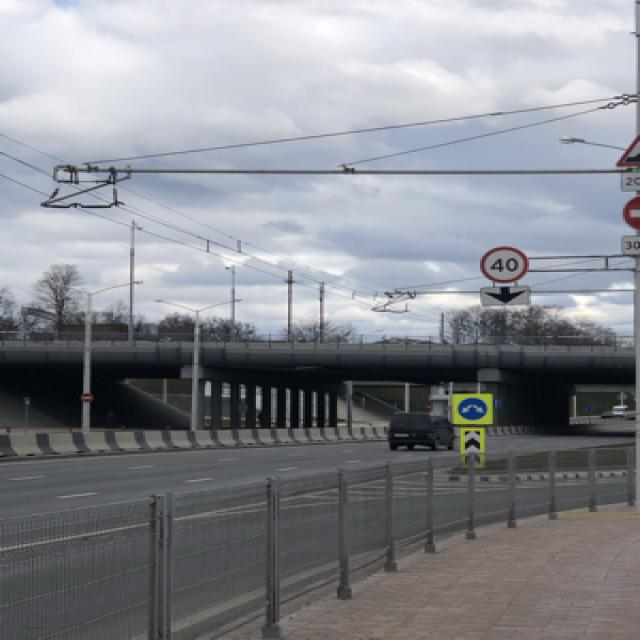speedlimit: (478, 244, 527, 282)
